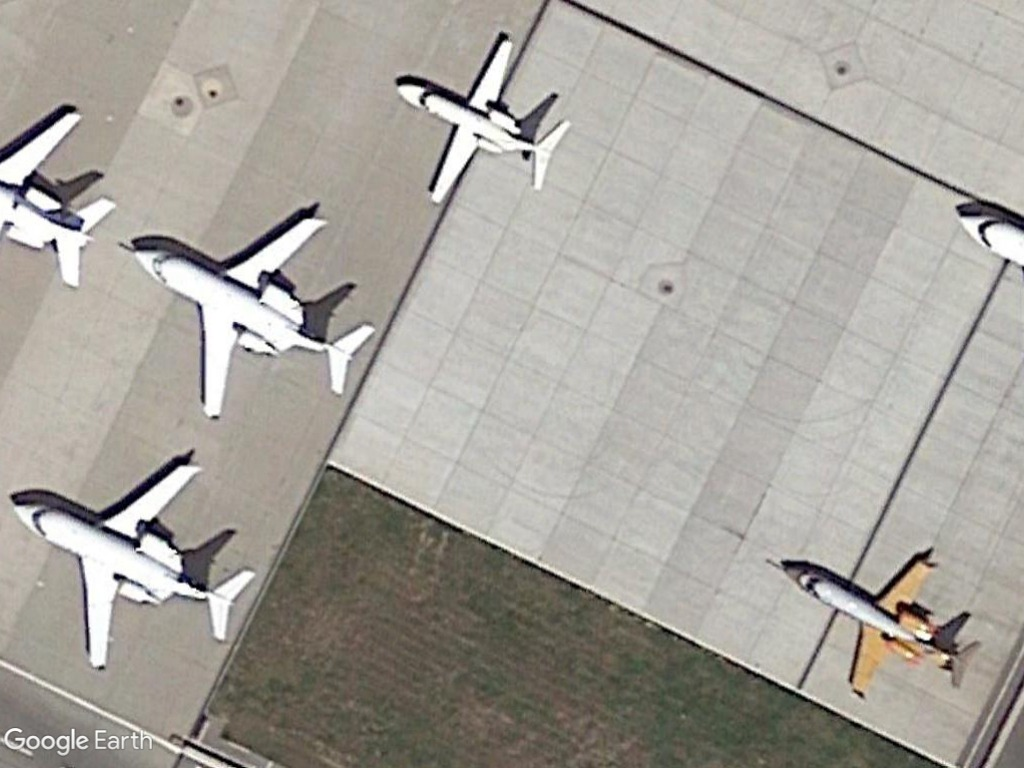chartered: (7, 456, 259, 675), (128, 211, 376, 428), (391, 30, 574, 210), (779, 549, 980, 706)
